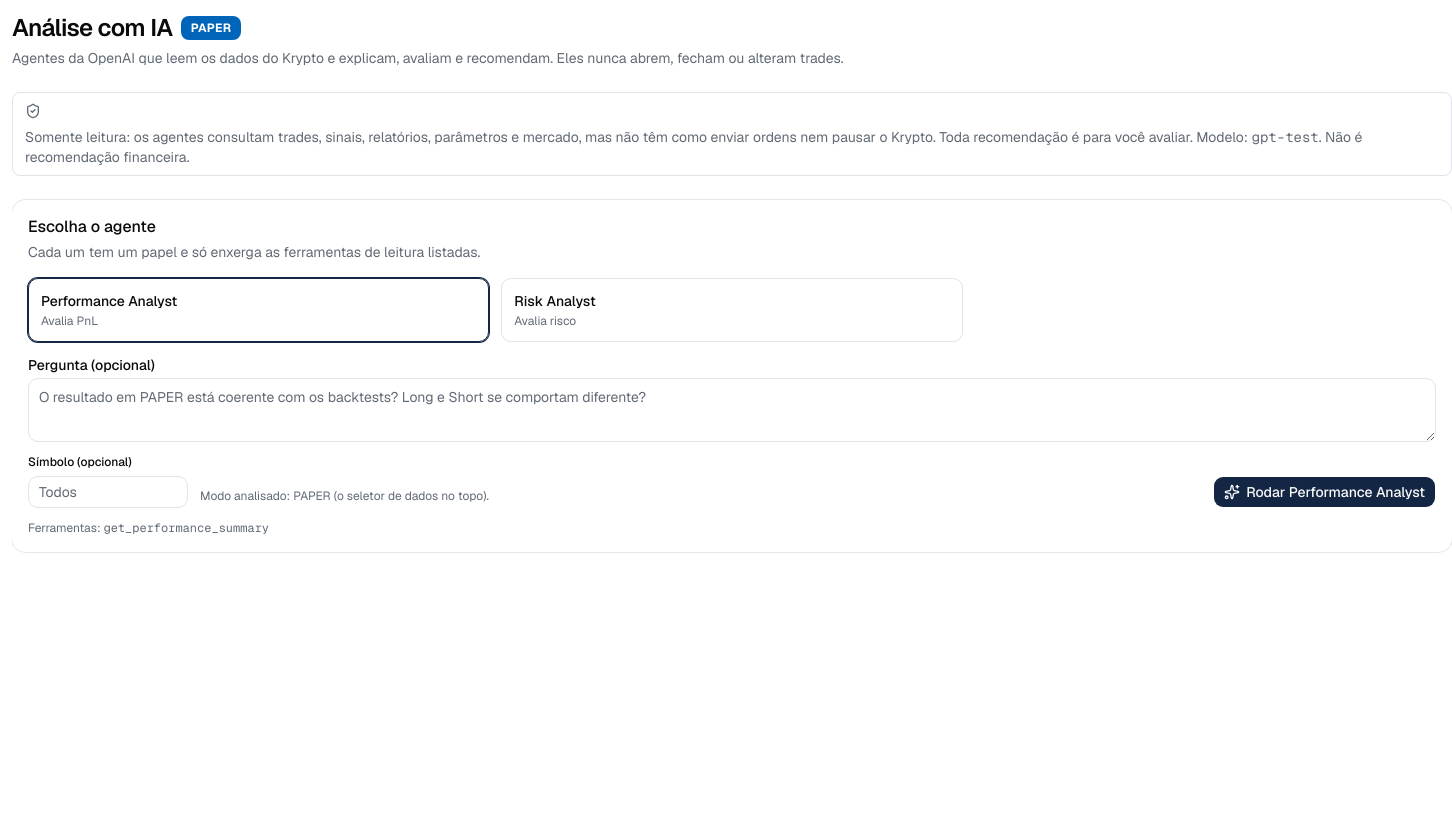
Scenario: AiView › shows the backend error (e.g. 503 when misconfigured) instead of breaking
What coordinates should you click on to do the following:
click the button "Rodar Performance Analyst"
I would click on:
 (1325, 492)
Its box is [1213,476,1436,508].
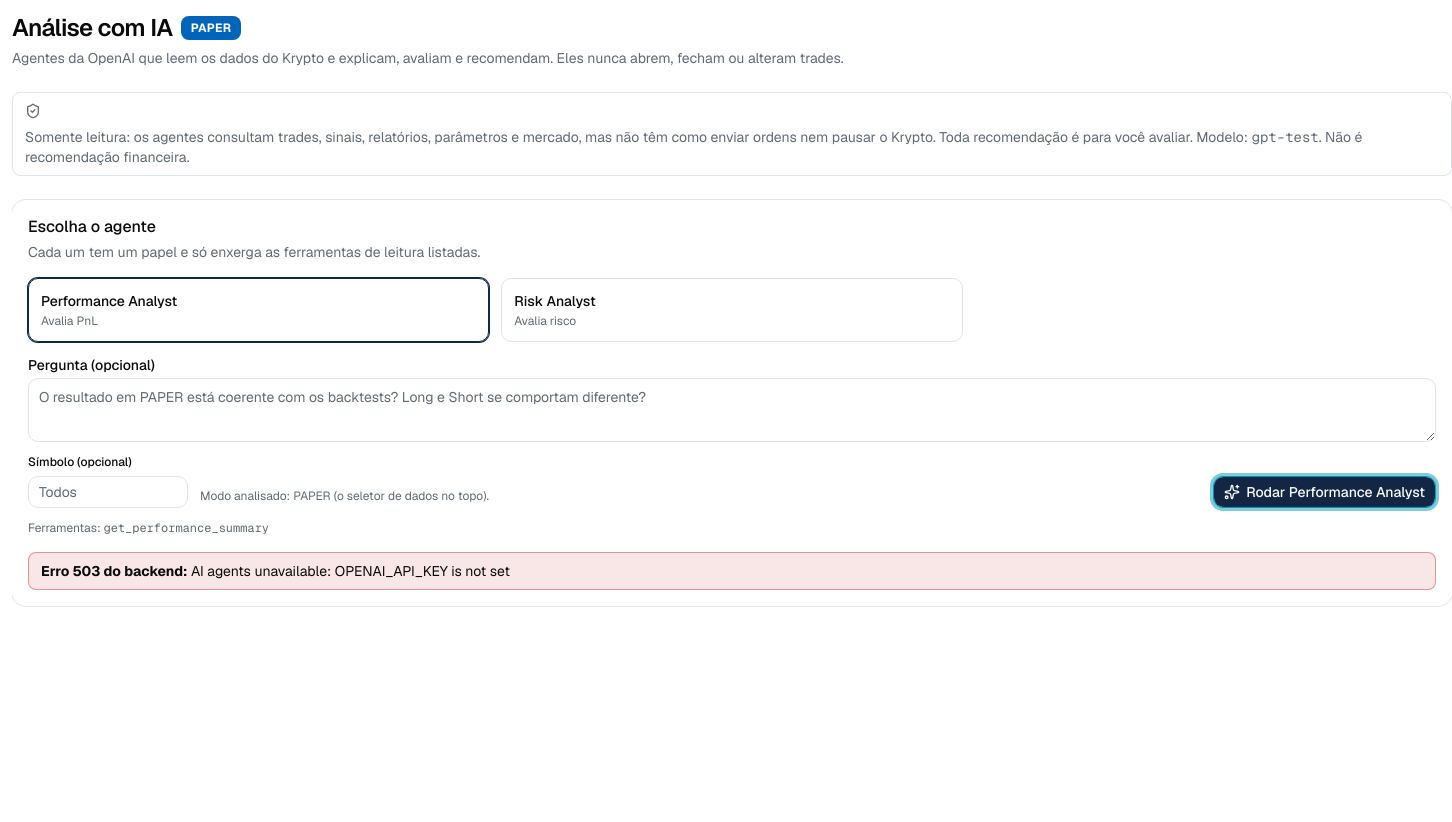
Now the text "Erro 503 do backend: AI agents unavailable: OPENAI_API_KEY is not set" is shown, box [28,552,1436,590]
